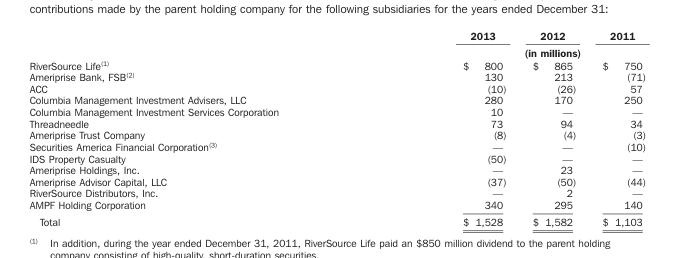table: (28, 28, 645, 227)
table column: (28, 28, 370, 227), (370, 28, 518, 227), (518, 28, 588, 227), (588, 28, 645, 227)
table column header: (28, 28, 645, 58)
table row: (28, 28, 645, 43), (28, 43, 645, 58), (28, 212, 645, 227), (28, 198, 645, 212), (28, 58, 645, 70), (28, 70, 645, 82), (28, 93, 645, 105), (28, 105, 645, 117), (28, 128, 645, 140), (28, 151, 645, 163), (28, 163, 645, 175), (28, 186, 645, 198), (28, 82, 645, 93), (28, 117, 645, 128), (28, 140, 645, 151), (28, 175, 645, 186)
table spanning cell: (370, 43, 645, 58)
